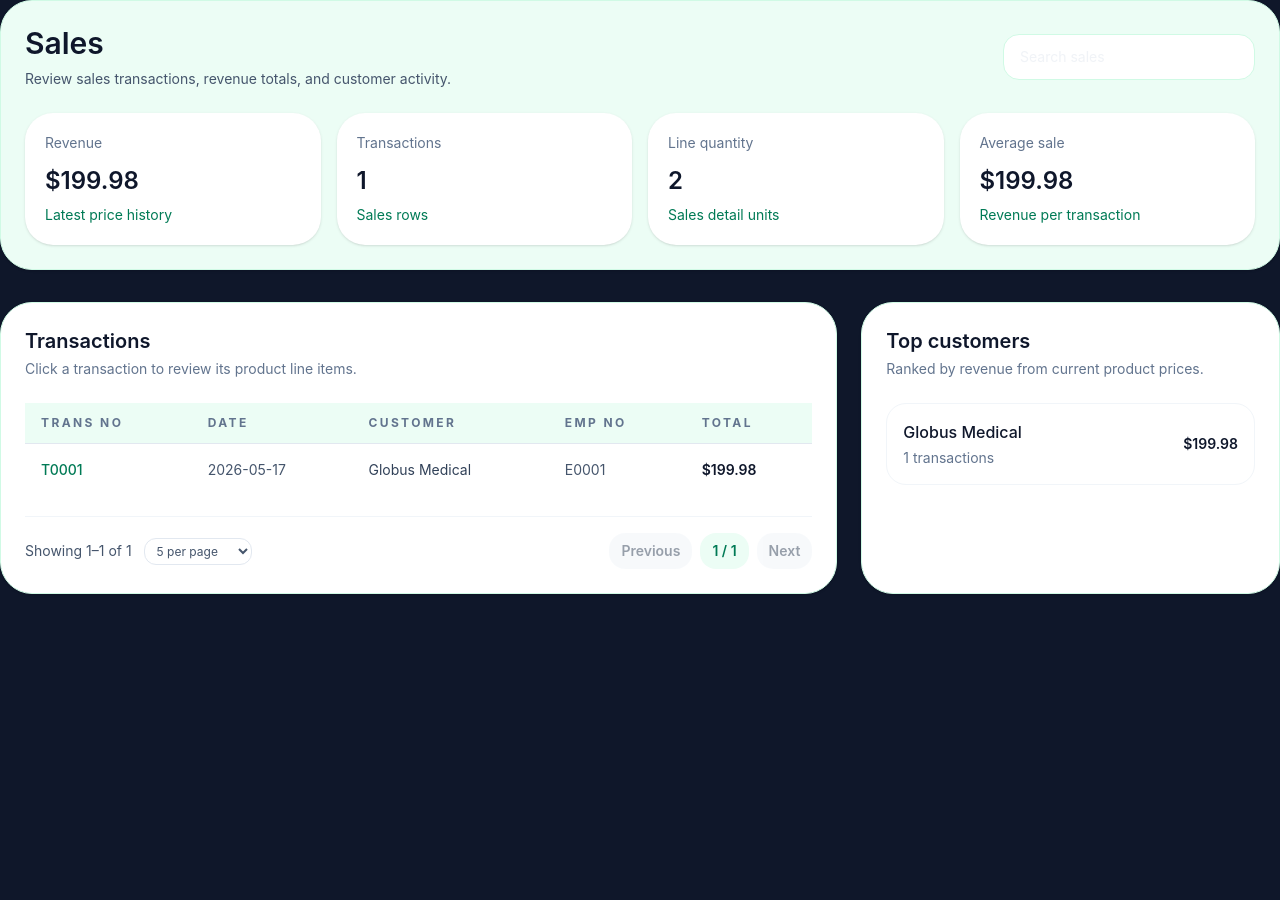
Sprint 2 M5 view-only enforcement gate › renders Sales and Sales Detail without mutation buttons for USER
This screenshot has width=1280, height=900.
Expected: the heading "Transactions" is shown, x1=25 y1=329 x2=150 y2=353
What coordinates should you click on to do the following:
click the text "T0001"
I would click on:
 (62, 470)
Its box is x1=25 y1=444 x2=192 y2=496.
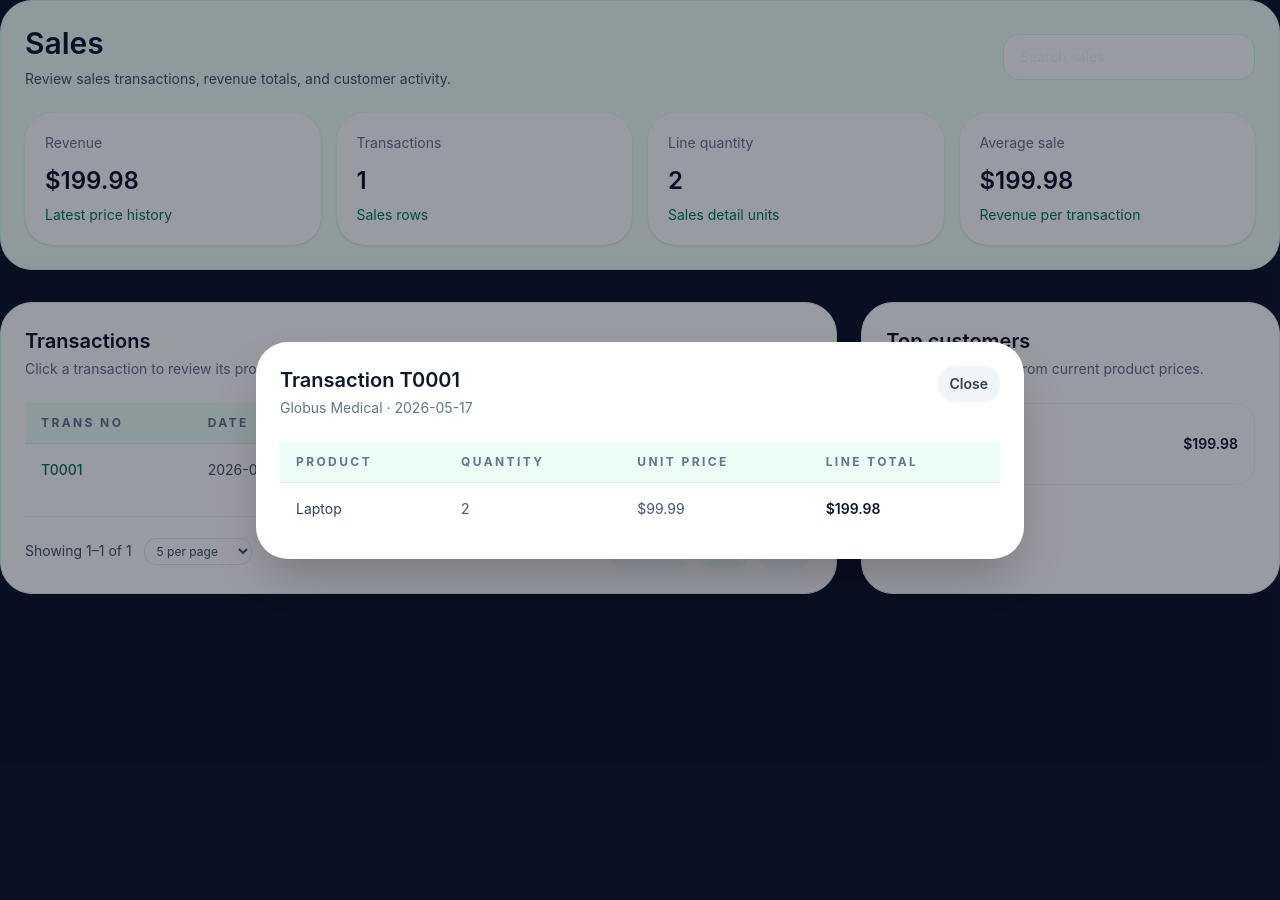
Expected: the heading "Transaction T0001" is shown, x1=280 y1=366 x2=473 y2=394
